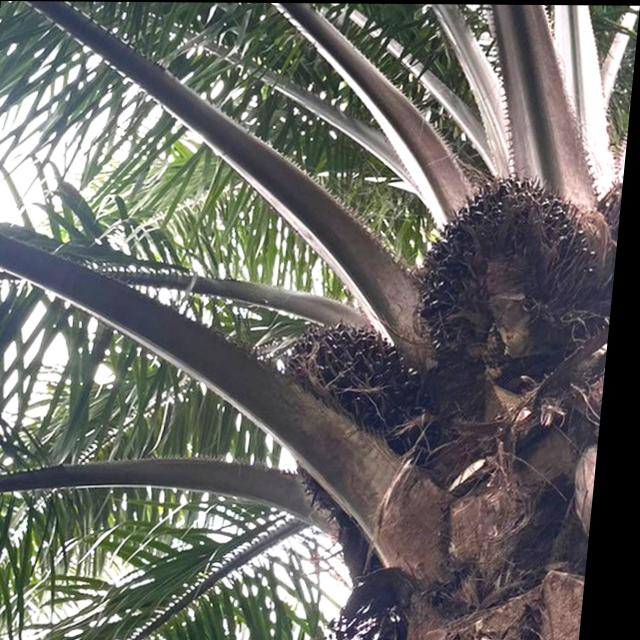almost: (418, 173, 606, 364), (275, 314, 435, 521)
